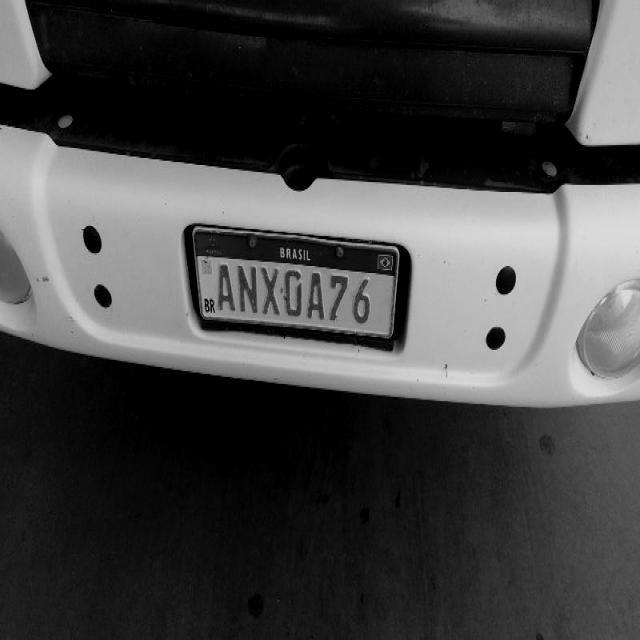placa_mercosul: (193, 228, 400, 342)
